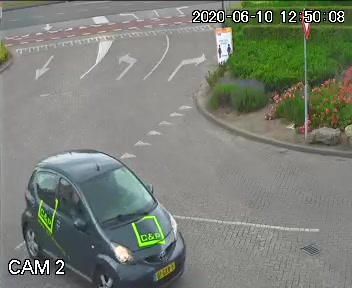car: (14, 143, 184, 284)
